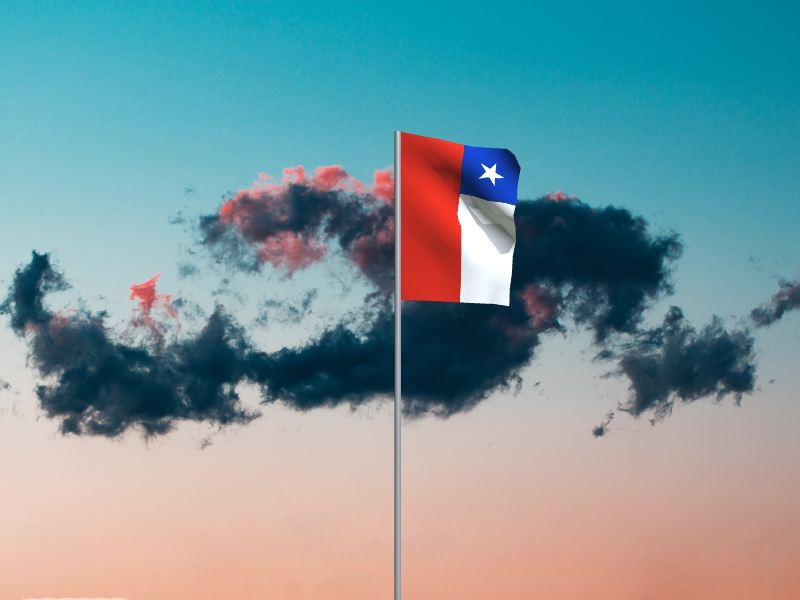cl: (402, 133, 522, 308)
